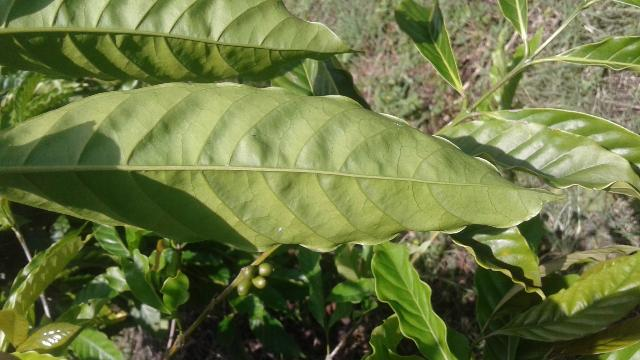healthy: (1, 83, 569, 254)
